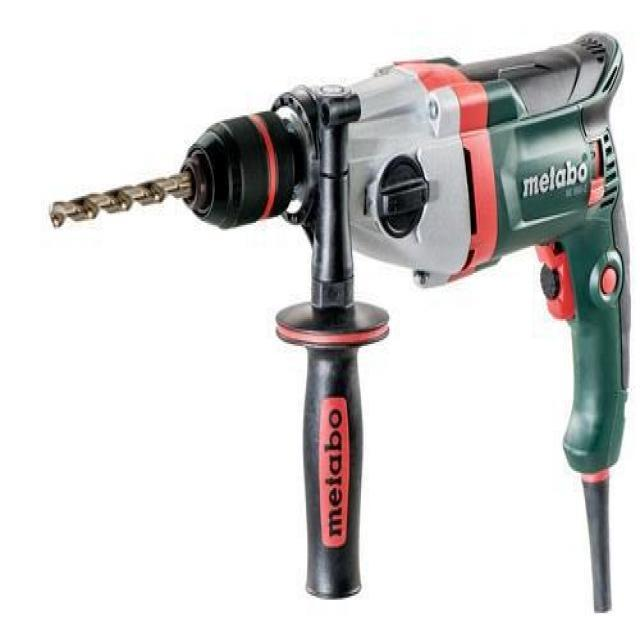drill: (49, 33, 632, 612)
